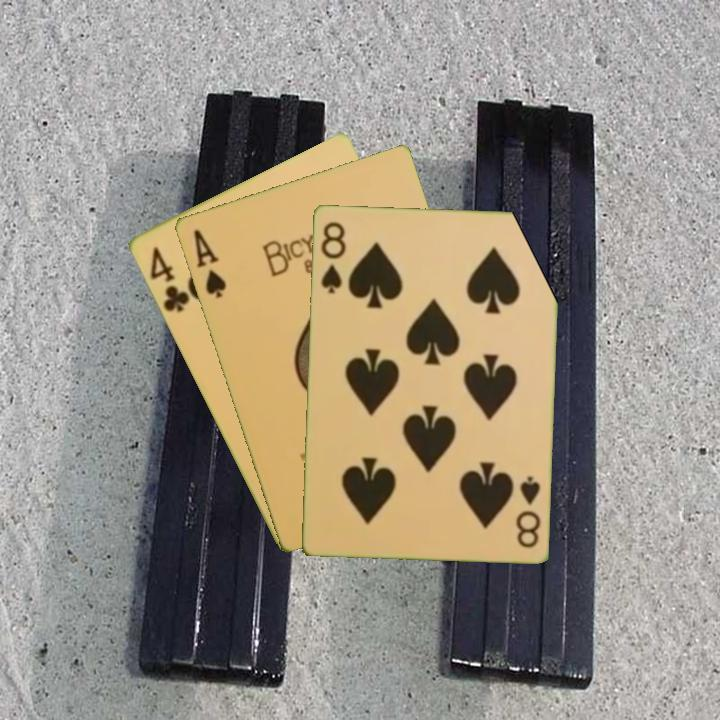4c: (145, 242, 192, 315)
8s: (317, 218, 349, 296), (512, 472, 543, 550)
As: (189, 225, 229, 301)
